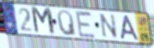2: (18, 8, 35, 34)
A: (120, 14, 140, 41)
E: (74, 9, 97, 40)
M: (30, 6, 57, 37)
N: (99, 13, 119, 40)
Q: (56, 10, 78, 38)
